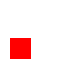square: (10, 38, 30, 58)
